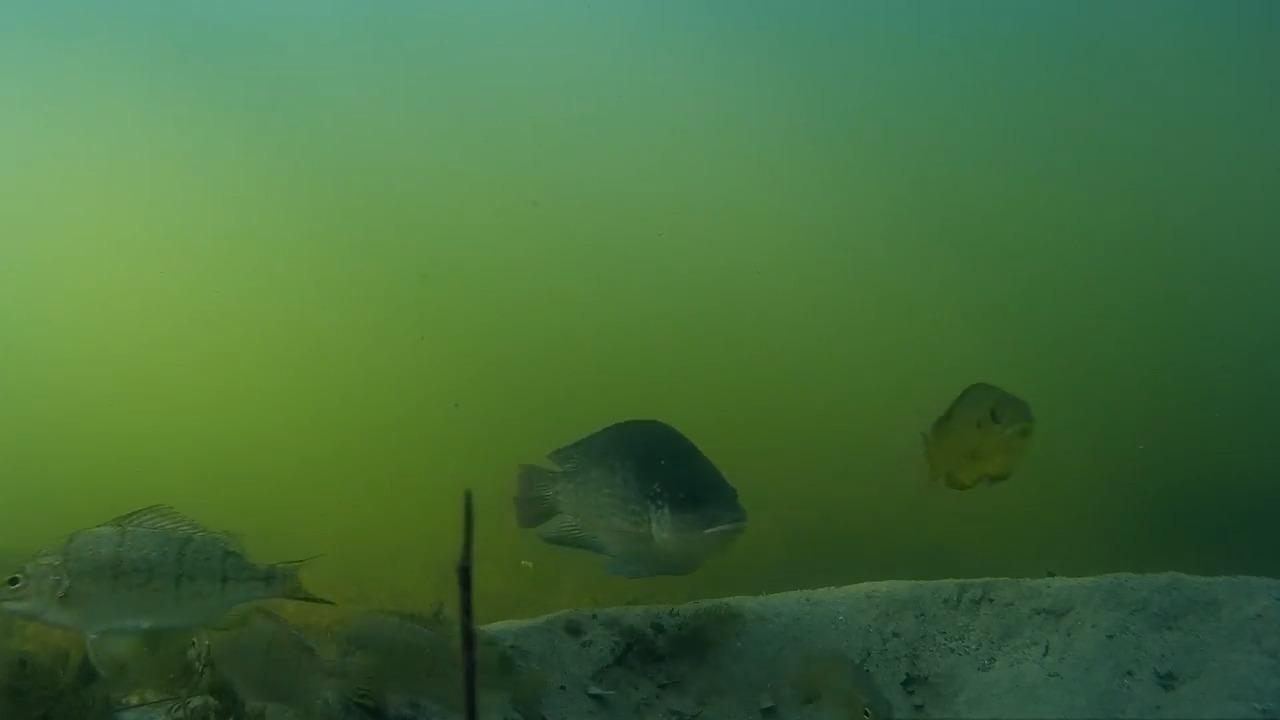Tilapia: (1, 502, 352, 649), (502, 417, 761, 585), (334, 602, 555, 706), (904, 380, 1054, 504), (792, 648, 899, 718)
